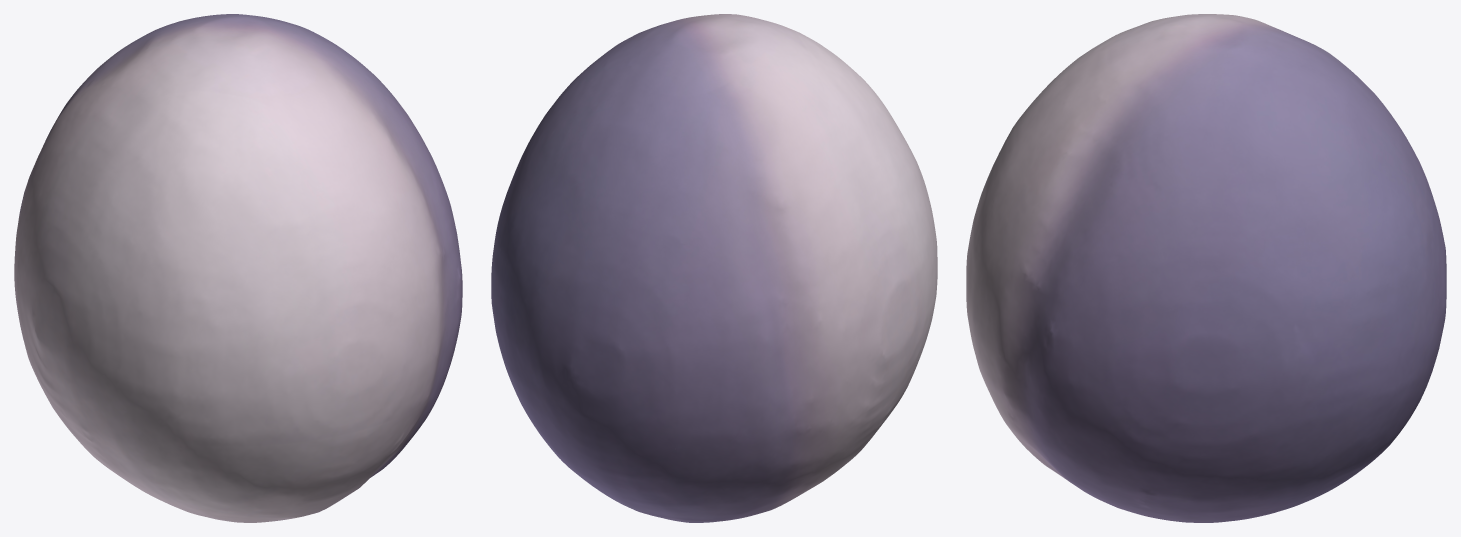
The model's file is yellow_fat_almond_sha_0709190715_refine.fbx.
The picture shows the model from 3 angles, left to right: view 1: azimuth 30°, elevation 25°; view 2: azimuth 150°, elevation 25°; view 3: azimuth 270°, elevation 25°; orthographic projection.
Parts seen in each view (by area): view 1: Mesh_0; view 2: Mesh_0; view 3: Mesh_0.
Boxes of the visible parts, left/top/right/bottom form: Mesh_0: left=14, top=14, right=462, bottom=522; Mesh_0: left=491, top=14, right=937, bottom=522; Mesh_0: left=966, top=14, right=1446, bottom=522.
Size of the model in its own units: 99.79 by 120 by 110.
1 material, 1 textured.
